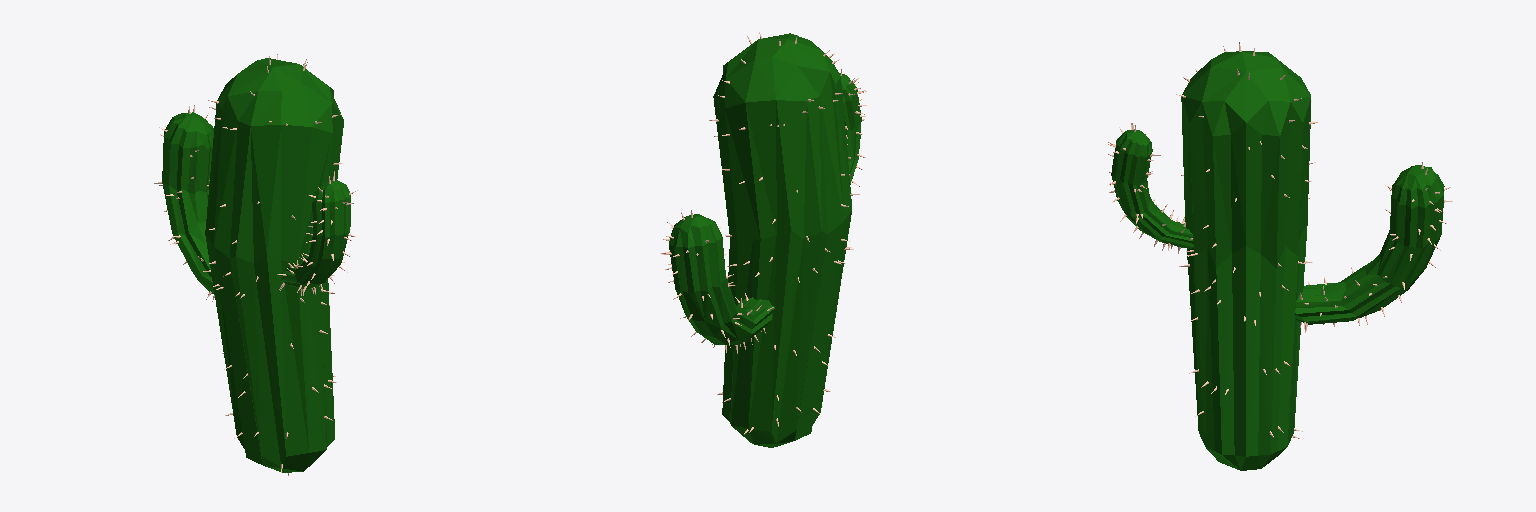
Rendered from Cactus01.obj.
The picture shows the model from 3 angles: view 1: azimuth 30°, elevation 25°; view 2: azimuth 150°, elevation 25°; view 3: azimuth 270°, elevation 25°; orthographic projection.
Parts seen in each view (by area): view 1: Circle, x_Circle.001, x.001_Circle.002, Cone; view 2: Circle, x_Circle.001, Cone, x.001_Circle.002; view 3: Circle, x_Circle.001, x.001_Circle.002, Cone.
Boxes of the visible parts, <box> form: Circle: <box>205,58,343,472</box>; x_Circle.001: <box>162,112,214,294</box>; x.001_Circle.002: <box>281,180,350,288</box>; Cone: <box>154,54,357,475</box>; Circle: <box>713,33,851,447</box>; x_Circle.001: <box>669,214,774,344</box>; Cone: <box>660,32,866,434</box>; x.001_Circle.002: <box>839,73,861,184</box>; Circle: <box>1181,51,1310,470</box>; x_Circle.001: <box>1295,165,1444,324</box>; x.001_Circle.002: <box>1111,130,1193,248</box>; Cone: <box>1108,42,1452,438</box>.
Size of the model in its own units: 3.16 by 9.6 by 7.2.